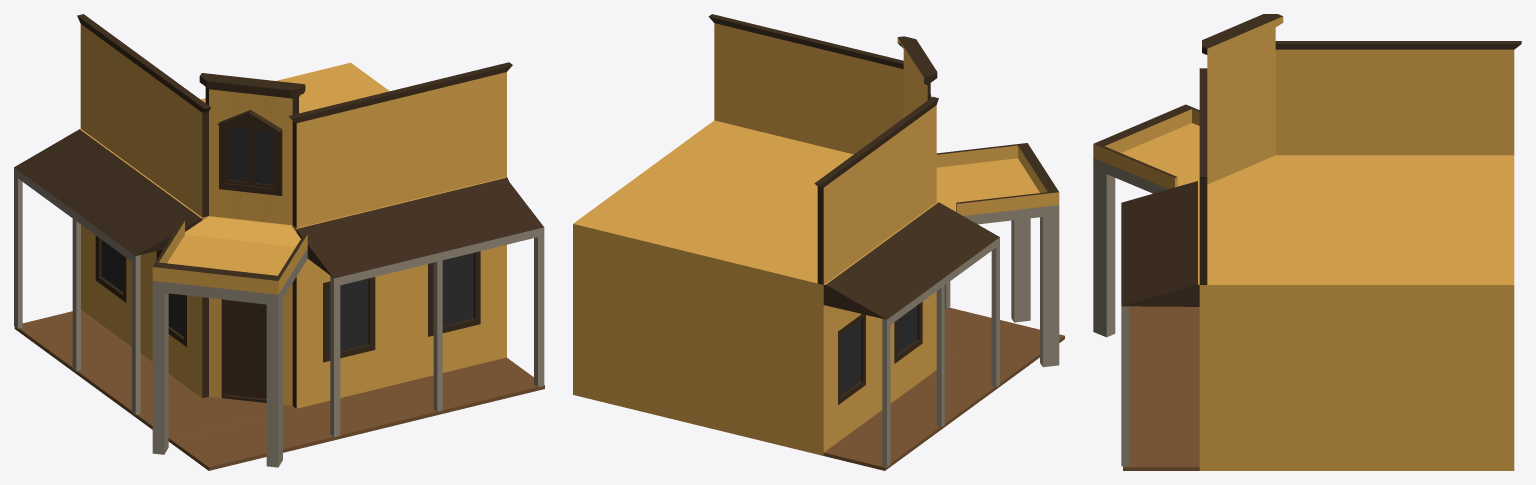
Rendered from bank.fbx.
3 views of the same model, side by side, from view 1: azimuth 30°, elevation 25°; view 2: azimuth 150°, elevation 25°; view 3: azimuth 270°, elevation 25° (orthographic). The views are drawn at different scales.
Visible parts, largest first — view 1: Cube; view 2: Cube; view 3: Cube.
Part boxes in pixels (<box>): Cube: <box>14,14,544,470</box>; Cube: <box>573,14,1064,470</box>; Cube: <box>1093,14,1521,470</box>.
Bounding box in the file's own units: 279 × 234 × 279.
